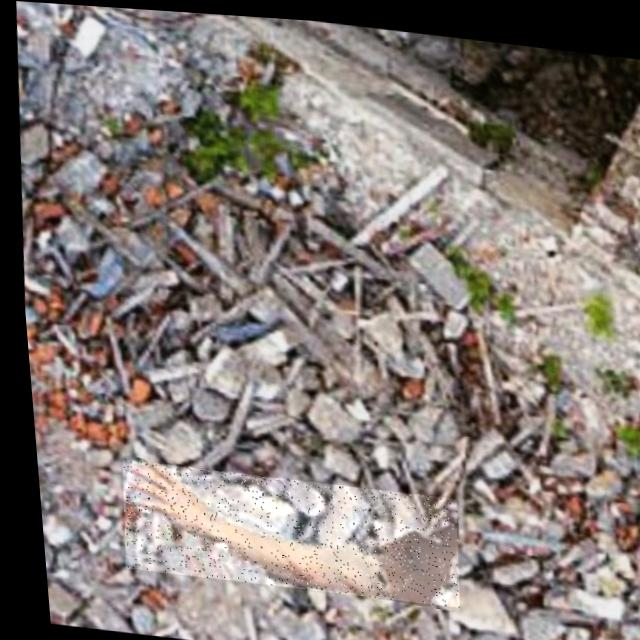Person in Rubble: (109, 457, 455, 601)
